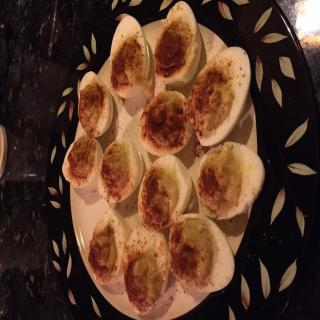Egg: (62, 2, 265, 316)
